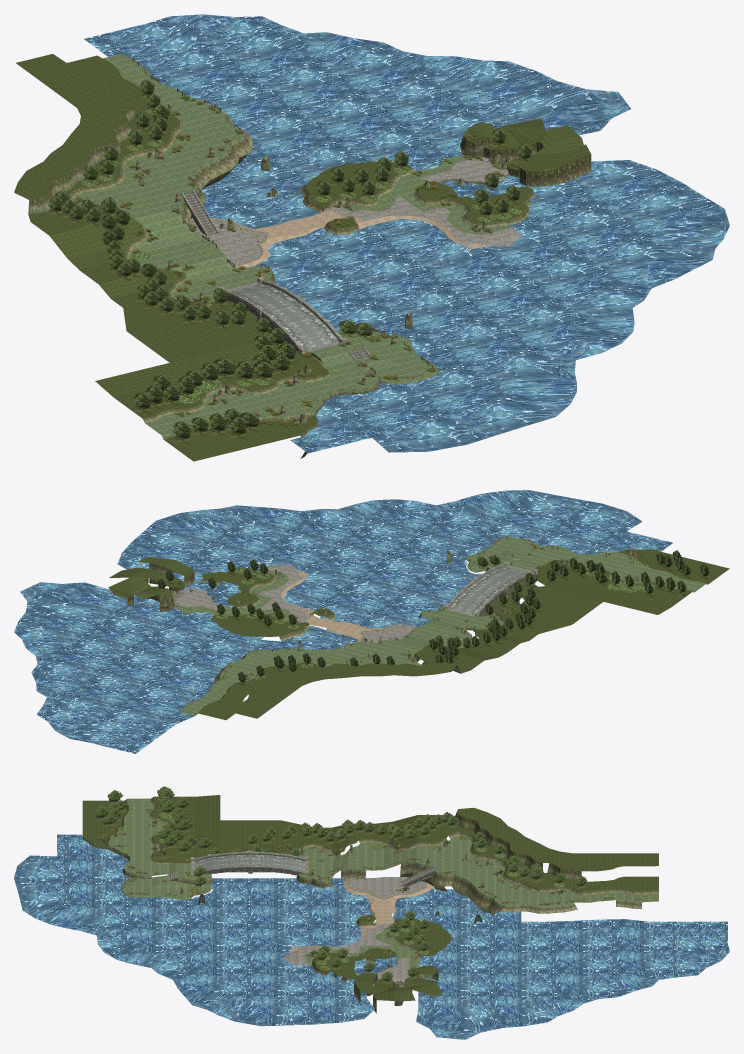
File: Ursula3.obj
3 views of the same model, one above another, from view 1: azimuth 30°, elevation 25°; view 2: azimuth 150°, elevation 25°; view 3: azimuth 270°, elevation 25° (orthographic). The views are drawn at different scales.
Parts seen in each view (by area): view 1: Object.358, Object.323, Object.324, Object.363, Object.343, Object.356, Object.352, Object.336, Object.345, Object.106, Object.335, Object.351 (+90 smaller); view 2: Object.324, Object.358, Object.323, Object.363, Object.356, Object.343, Object.352, Object.345, Object.336, Object.351, Object.334, Object.349 (+76 smaller); view 3: Object.324, Object.358, Object.323, Object.363, Object.343, Object.326, Object.356, Object.345, Object.352, Object.335, Object.336, Object.351 (+89 smaller).
Boxes of the visible parts, bbox=[...] form: Object.358: bbox=[372, 401, 497, 452]; Object.323: bbox=[442, 71, 585, 127]; Object.324: bbox=[360, 92, 492, 156]; Object.363: bbox=[286, 33, 402, 88]; Object.343: bbox=[440, 294, 554, 349]; Object.356: bbox=[283, 250, 397, 305]; Object.352: bbox=[348, 234, 479, 289]; Object.336: bbox=[627, 209, 724, 262]; Object.345: bbox=[477, 321, 576, 384]; Object.106: bbox=[127, 316, 253, 362]; Object.335: bbox=[510, 195, 621, 251]; Object.351: bbox=[450, 385, 569, 434]; Object.324: bbox=[80, 611, 189, 651]; Object.358: bbox=[543, 499, 641, 535]; Object.323: bbox=[19, 599, 129, 634]; Object.363: bbox=[32, 660, 122, 696]; Object.356: bbox=[352, 582, 447, 617]; Object.343: bbox=[359, 521, 454, 556]; Object.352: bbox=[311, 565, 400, 605]; Object.345: bbox=[386, 497, 495, 536]; Object.336: bbox=[156, 505, 264, 536]; Object.351: bbox=[496, 490, 575, 523]; Object.334: bbox=[132, 530, 237, 564]; Object.349: bbox=[446, 513, 542, 545]; Object.324: bbox=[444, 965, 521, 997]; Object.358: bbox=[14, 855, 82, 889]; Object.323: bbox=[444, 987, 523, 1032]; Object.363: bbox=[573, 965, 658, 998]; Object.343: bbox=[134, 911, 211, 943]; Object.326: bbox=[444, 911, 521, 943]; Object.356: bbox=[263, 889, 340, 921]; Object.345: bbox=[64, 911, 159, 943]; Object.352: bbox=[263, 911, 340, 943]; Object.335: bbox=[263, 964, 340, 997]; Object.336: bbox=[192, 987, 263, 1025]; Object.351: bbox=[17, 889, 82, 918].
Bounding box in the file's own units: 184 × 18.57 × 233.
Materials: 16 (16 with a texture image).
